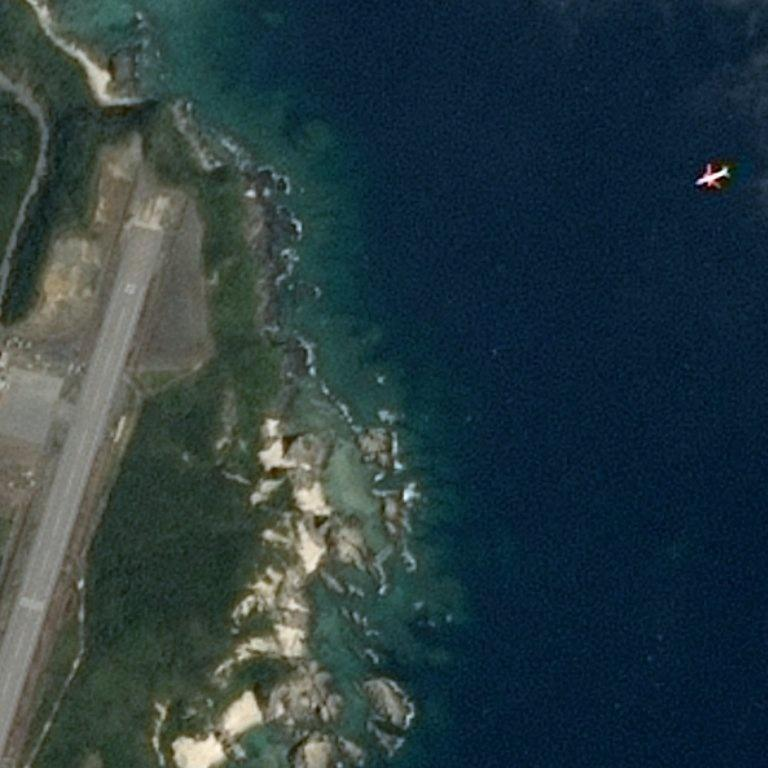ship: (713, 177, 715, 179)
